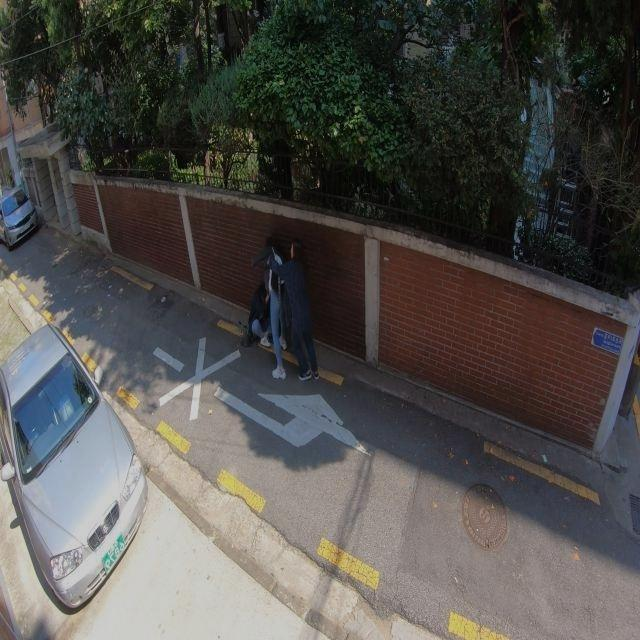fight: (240, 240, 320, 384)
